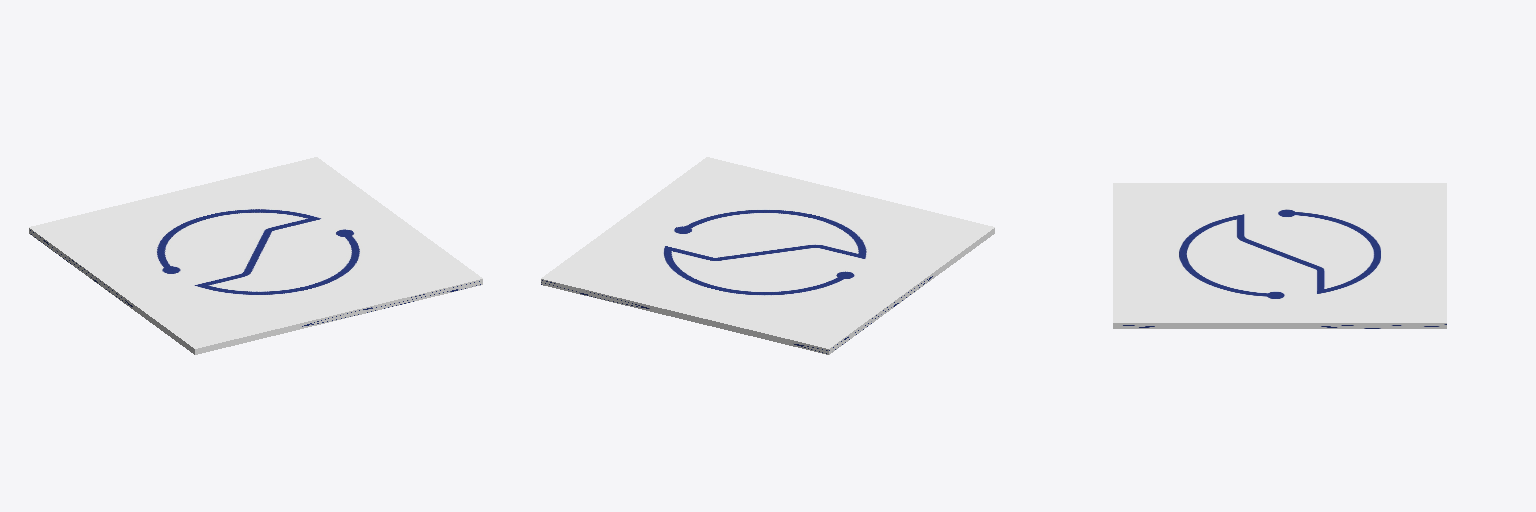
3 views of the same model, side by side, from view 1: azimuth 30°, elevation 25°; view 2: azimuth 150°, elevation 25°; view 3: azimuth 270°, elevation 25° (orthographic).
Visible parts, largest first — view 1: Cube_Cube.001; view 2: Cube_Cube.001; view 3: Cube_Cube.001.
Boxes of the visible parts, x1=… form: Cube_Cube.001: x1=29, y1=157, x2=482, y2=354; Cube_Cube.001: x1=541, y1=157, x2=994, y2=354; Cube_Cube.001: x1=1113, y1=183, x2=1446, y2=328.
Size of the model in its own units: 5 by 0.1 by 5.
1 materials, 1 textured.